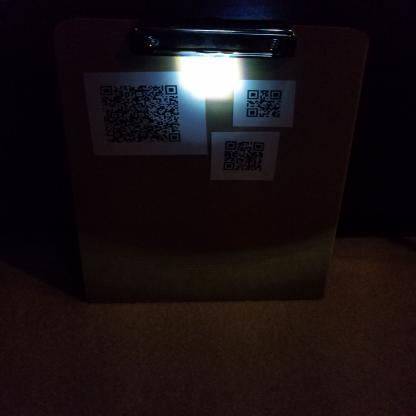qr: (97, 80, 185, 149), (220, 137, 269, 174), (245, 86, 287, 120)
